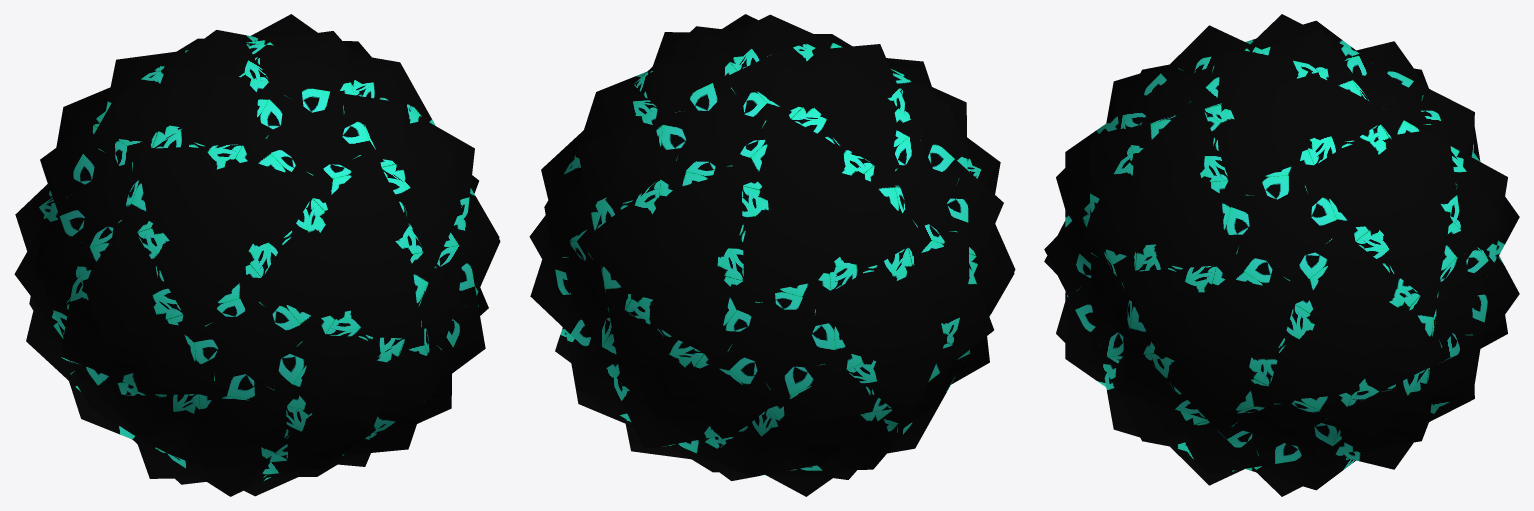
The model's file is 36GreatPentagonalHexecontahedron.gltf.
3 views of the same model, side by side, from view 1: azimuth 30°, elevation 25°; view 2: azimuth 150°, elevation 25°; view 3: azimuth 270°, elevation 25° (orthographic).
Parts seen in each view (by area): view 1: 25GreatPentagonalHexecontahedron; view 2: 25GreatPentagonalHexecontahedron; view 3: 25GreatPentagonalHexecontahedron.
Boxes of the visible parts, left/top/right/bottom form: 25GreatPentagonalHexecontahedron: left=14, top=14, right=500, bottom=496; 25GreatPentagonalHexecontahedron: left=529, top=14, right=1015, bottom=496; 25GreatPentagonalHexecontahedron: left=1044, top=14, right=1519, bottom=496.
Bounding box in the file's own units: 1.42 × 1.42 × 1.42.
Materials: 1 (1 with a texture image).
